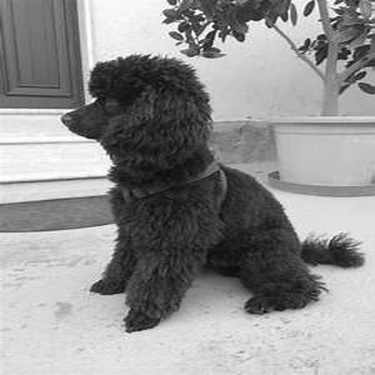dog: (45, 43, 372, 339)
